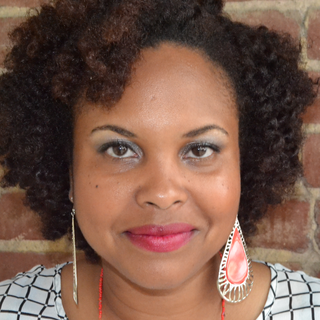eye: (91, 136, 145, 166), (175, 139, 224, 165)
